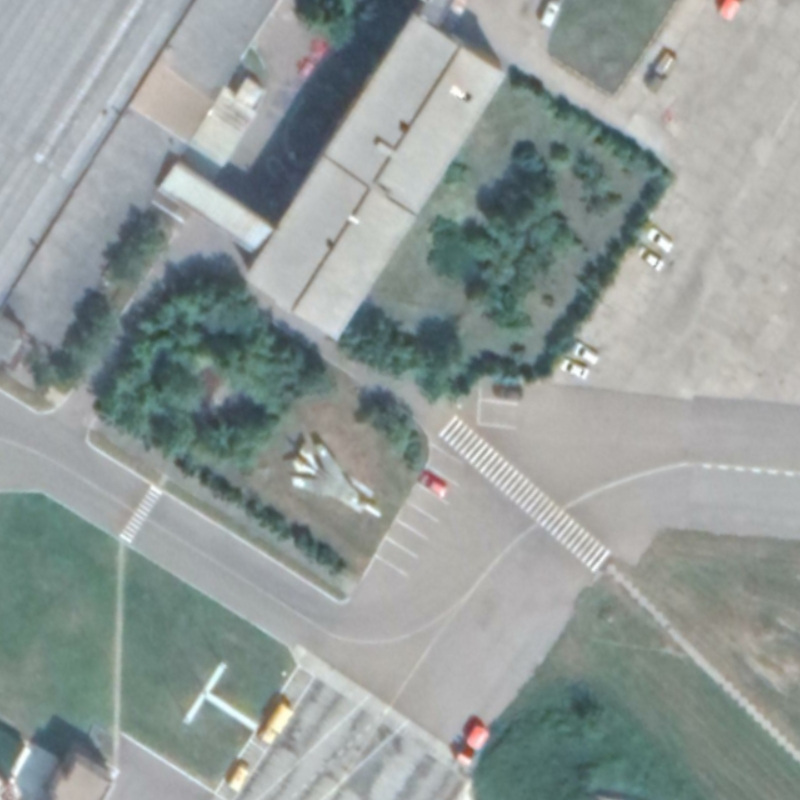A20: (287, 441, 386, 520)
